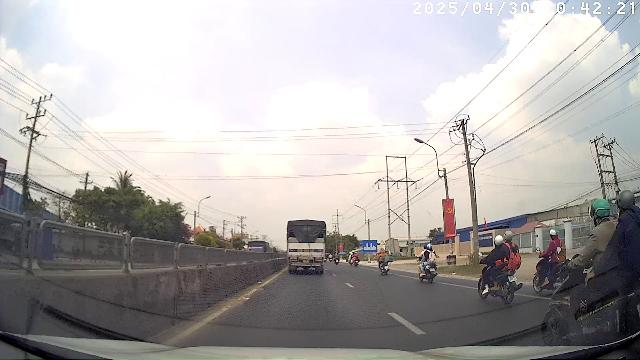420-bat-dau-khu-dong-dan-cu: (363, 241, 377, 252)
